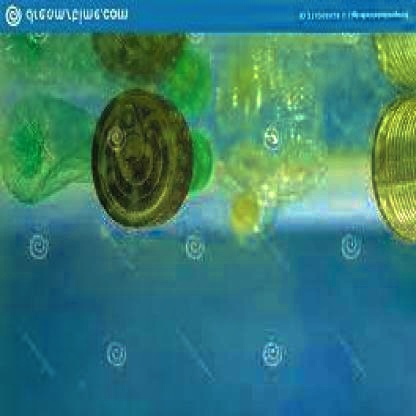can: (78, 83, 196, 235), (353, 85, 416, 255)
pbottle: (208, 37, 334, 240), (2, 89, 222, 205)
